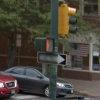Traffic light: (52, 0, 89, 43)
